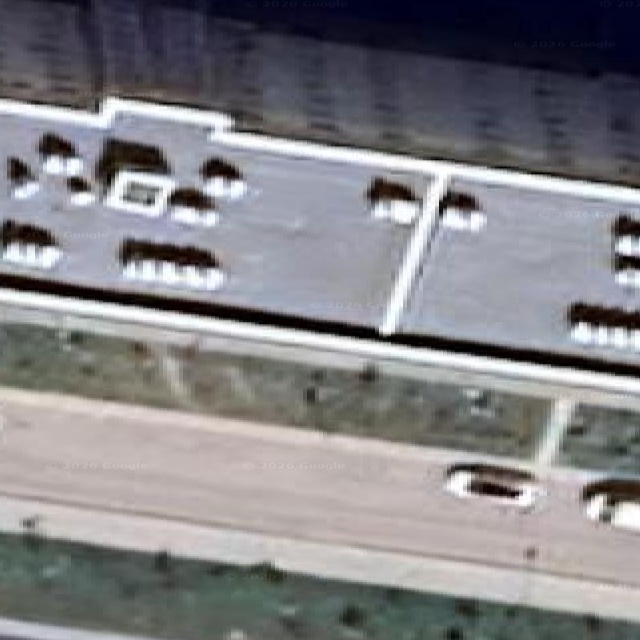car: (445, 463, 542, 509), (582, 478, 639, 531)
